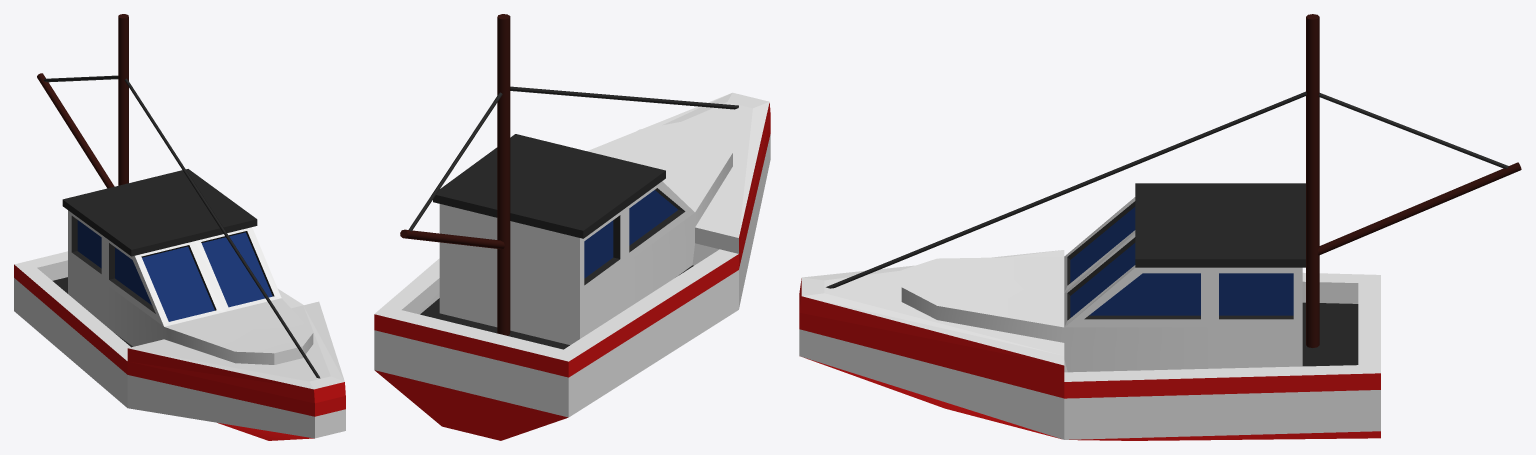
Rendered from Boat.FBX.
The picture shows the model from 3 angles, left to right: view 1: azimuth 30°, elevation 25°; view 2: azimuth 150°, elevation 25°; view 3: azimuth 270°, elevation 25°; orthographic projection. The views are drawn at different scales.
Parts seen in each view (by area): view 1: Line002, Line001, Circle001, Circle003, Circle002; view 2: Line002, Line001, Circle001, Circle003, Circle002, Circle004; view 3: Line001, Line002, Circle001, Circle003, Circle002, Circle004.
Part boxes in pixels (left/top/right/bottom): Line002: left=62, top=169, right=313, bottom=364; Line001: left=14, top=251, right=345, bottom=440; Circle001: left=118, top=14, right=128, bottom=185; Circle003: left=124, top=78, right=320, bottom=378; Circle002: left=37, top=73, right=114, bottom=188; Line002: left=433, top=121, right=732, bottom=345; Line001: left=374, top=92, right=770, bottom=440; Circle001: left=497, top=14, right=510, bottom=335; Circle003: left=510, top=86, right=738, bottom=109; Circle002: left=400, top=229, right=504, bottom=249; Circle004: left=408, top=92, right=502, bottom=231; Line001: left=799, top=250, right=1380, bottom=440; Line002: left=901, top=183, right=1305, bottom=372; Circle001: left=1306, top=14, right=1319, bottom=347; Circle003: left=826, top=91, right=1306, bottom=288; Circle002: left=1317, top=162, right=1521, bottom=255; Circle004: left=1319, top=93, right=1508, bottom=168.
Size of the model in its own units: 30 by 49.16 by 79.1.
